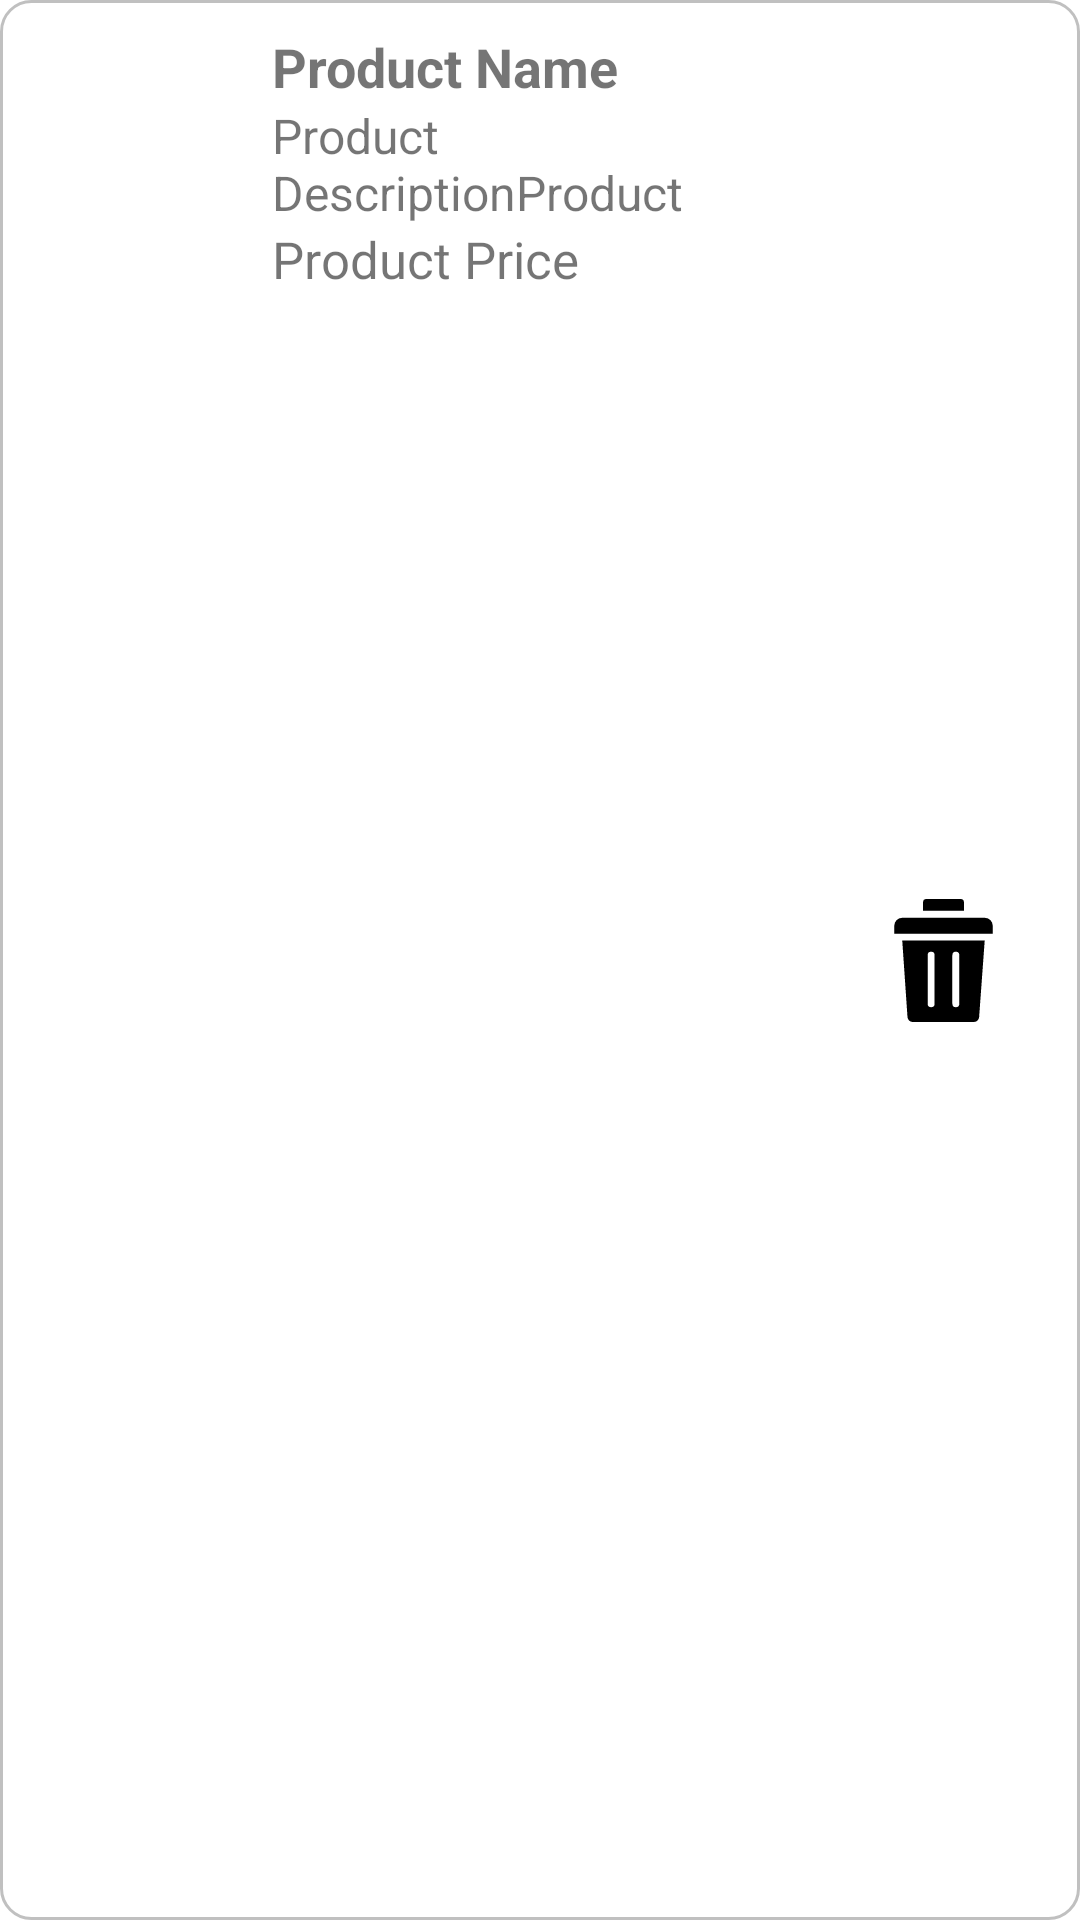

Where to tap for icons on this 1080 × 1920 app screen, as (x=x, y=y):
Delete button: (x=943, y=960)
